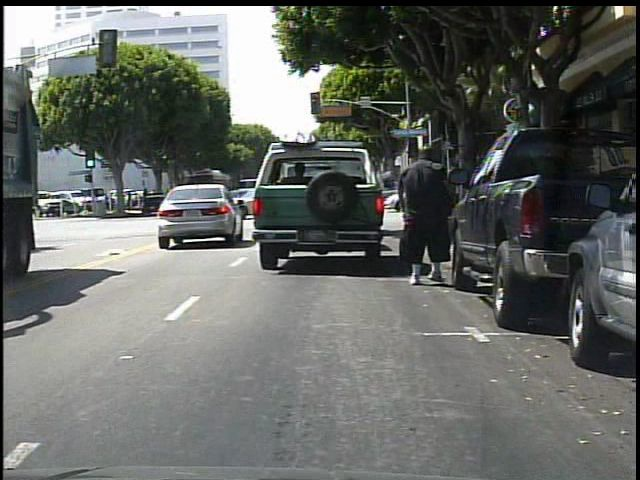person: (399, 143, 456, 289)
